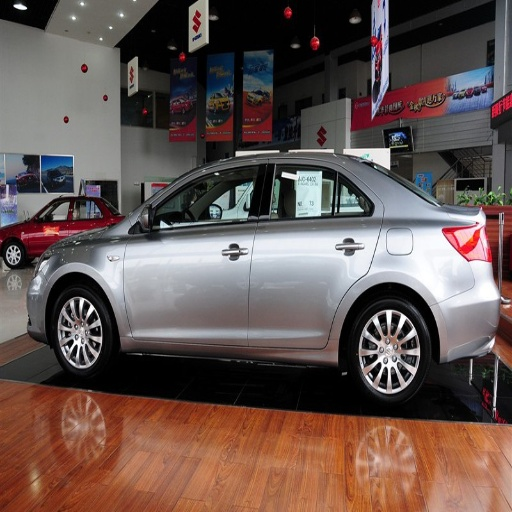back_left_door: (249, 159, 382, 347)
